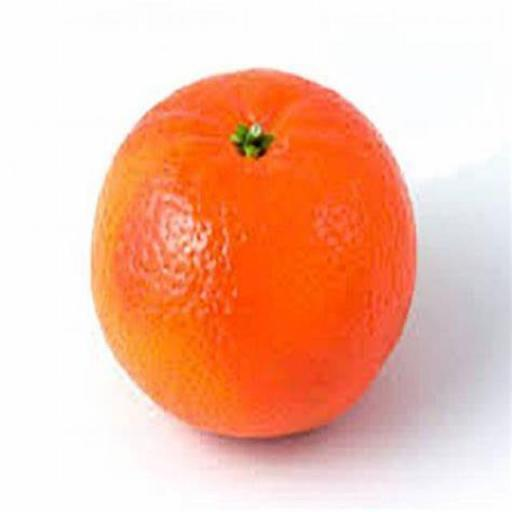fruit: (92, 71, 415, 436)
